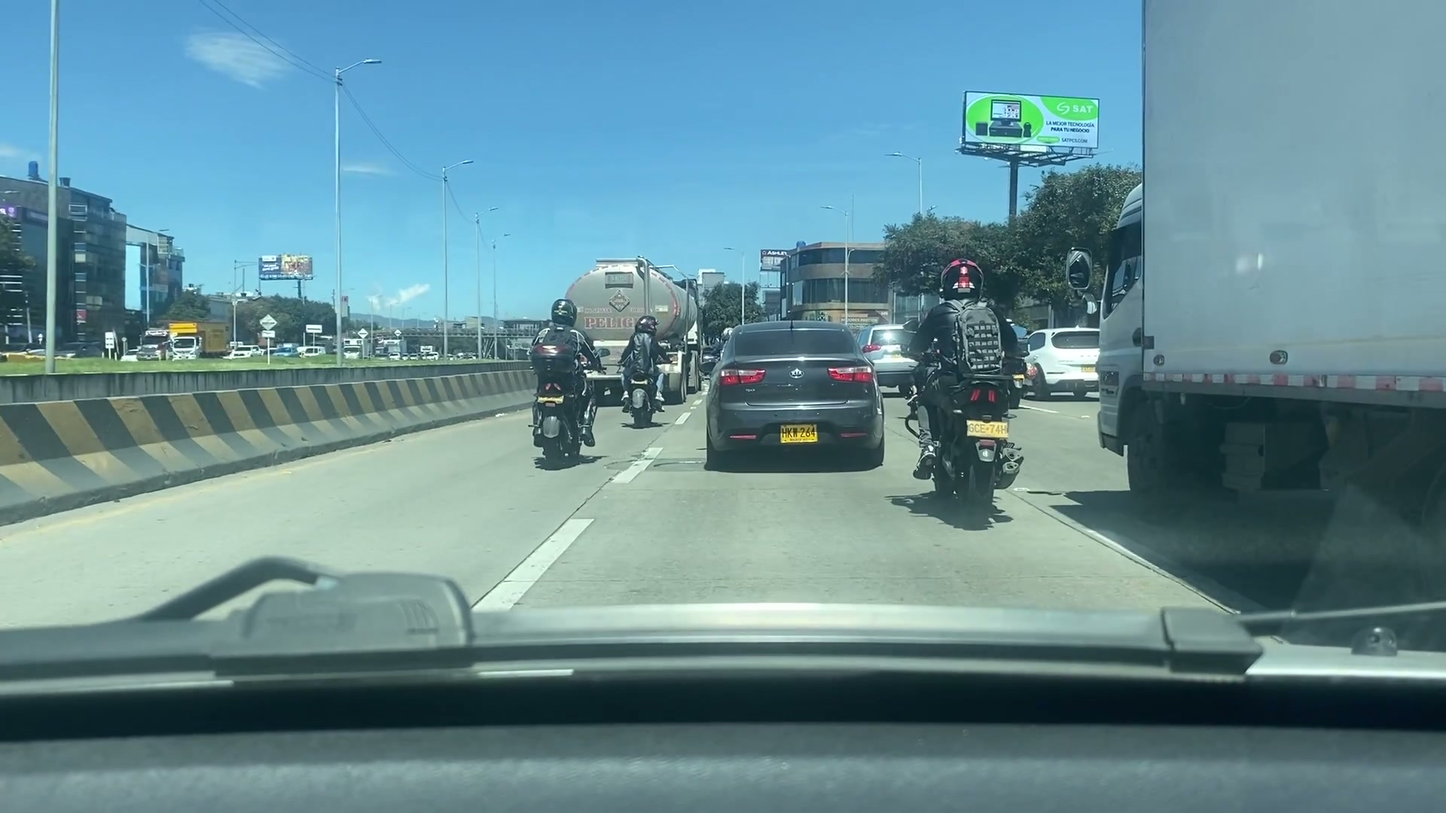car: (705, 322, 885, 470), (1026, 327, 1108, 397), (855, 326, 932, 396)
motorcycle: (902, 375, 1026, 520), (528, 382, 596, 461), (616, 370, 669, 427)
person: (907, 257, 1022, 486), (534, 296, 599, 446), (621, 314, 668, 417)
truck: (1064, 0, 1445, 613), (562, 257, 703, 397), (140, 327, 168, 359)
